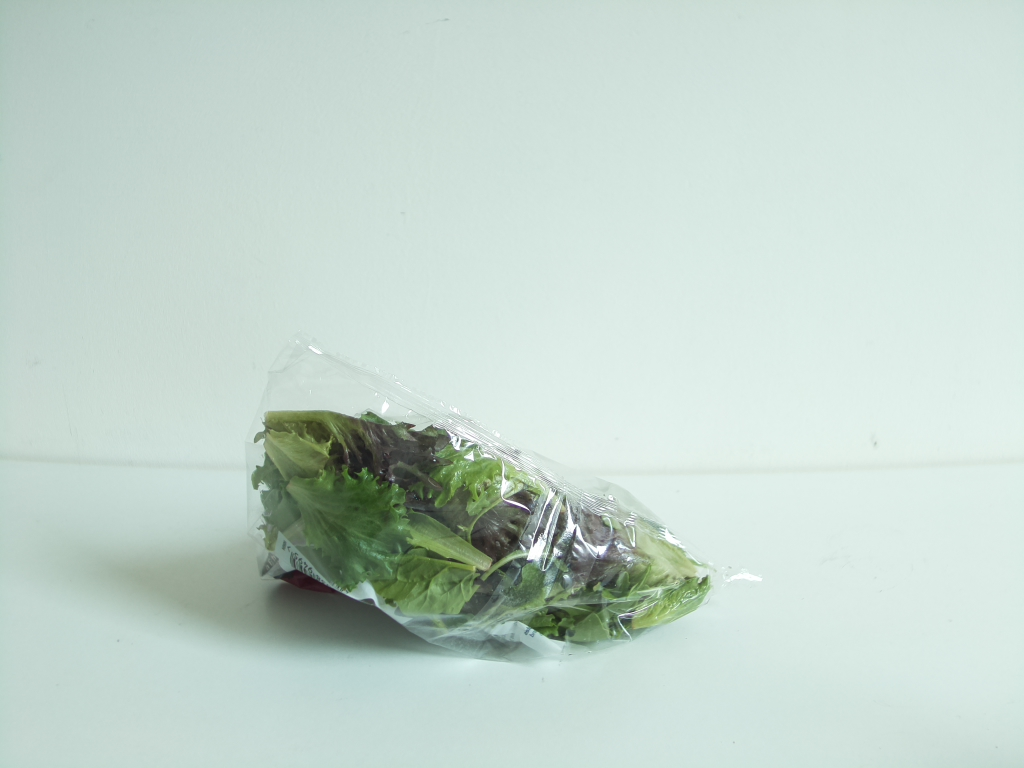salad: (259, 405, 736, 652)
